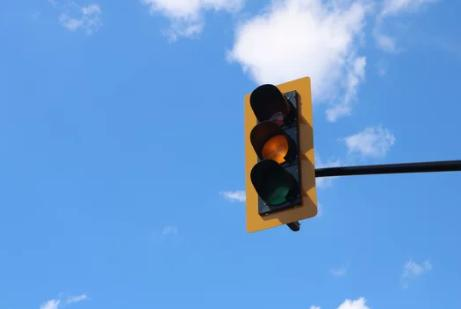yellow_light: (244, 77, 318, 232)
